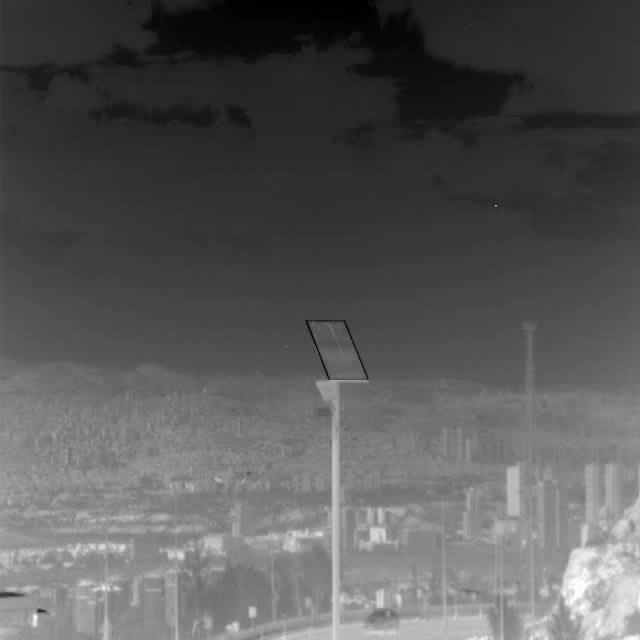Car: (364, 607, 398, 633)
